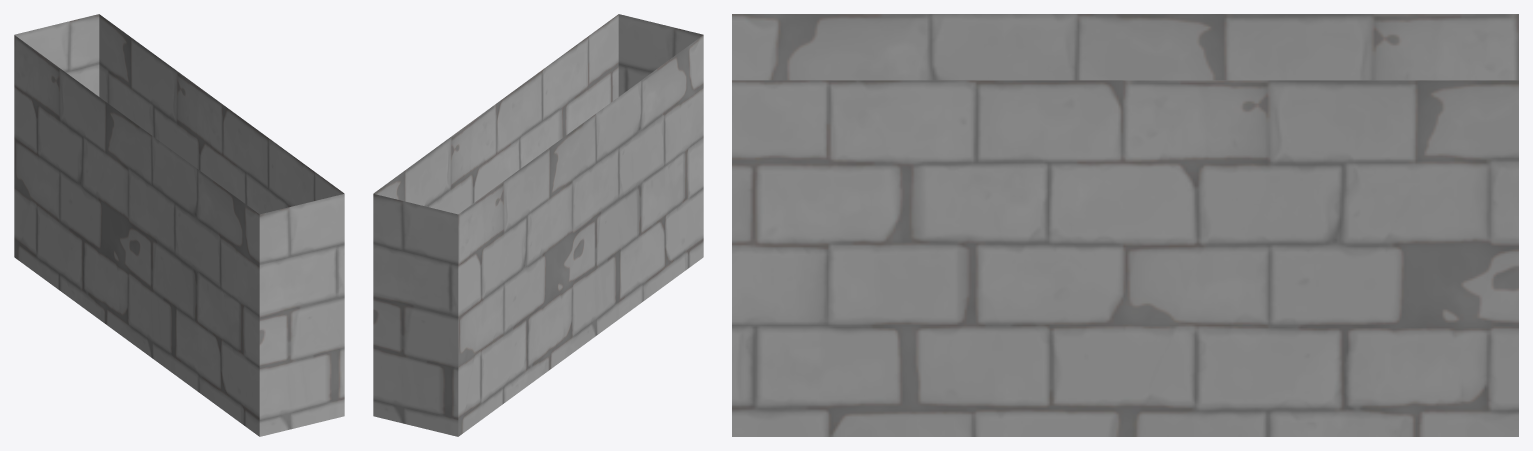
The model's file is Wall1X2_Prototype.fbx.
3 views of the same model, side by side, from view 1: azimuth 30°, elevation 25°; view 2: azimuth 150°, elevation 25°; view 3: azimuth 270°, elevation 25° (orthographic). The views are drawn at different scales.
Visible parts, largest first — view 1: Mat_Tile_BrickWall01 4; view 2: Mat_Tile_BrickWall01 4; view 3: Mat_Tile_BrickWall01 4.
Part boxes in pixels (x1=…): Mat_Tile_BrickWall01 4: x1=14, y1=14, x2=344, y2=436; Mat_Tile_BrickWall01 4: x1=373, y1=14, x2=703, y2=436; Mat_Tile_BrickWall01 4: x1=732, y1=14, x2=1518, y2=436.
Bounding box in the file's own units: 0.4 × 1 × 2.
Materials: 1 (1 with a texture image).
